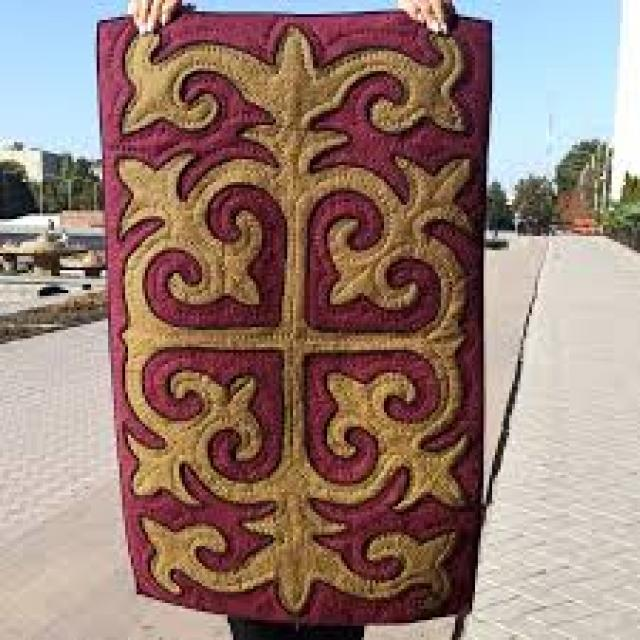Unity: (110, 149, 480, 518)
